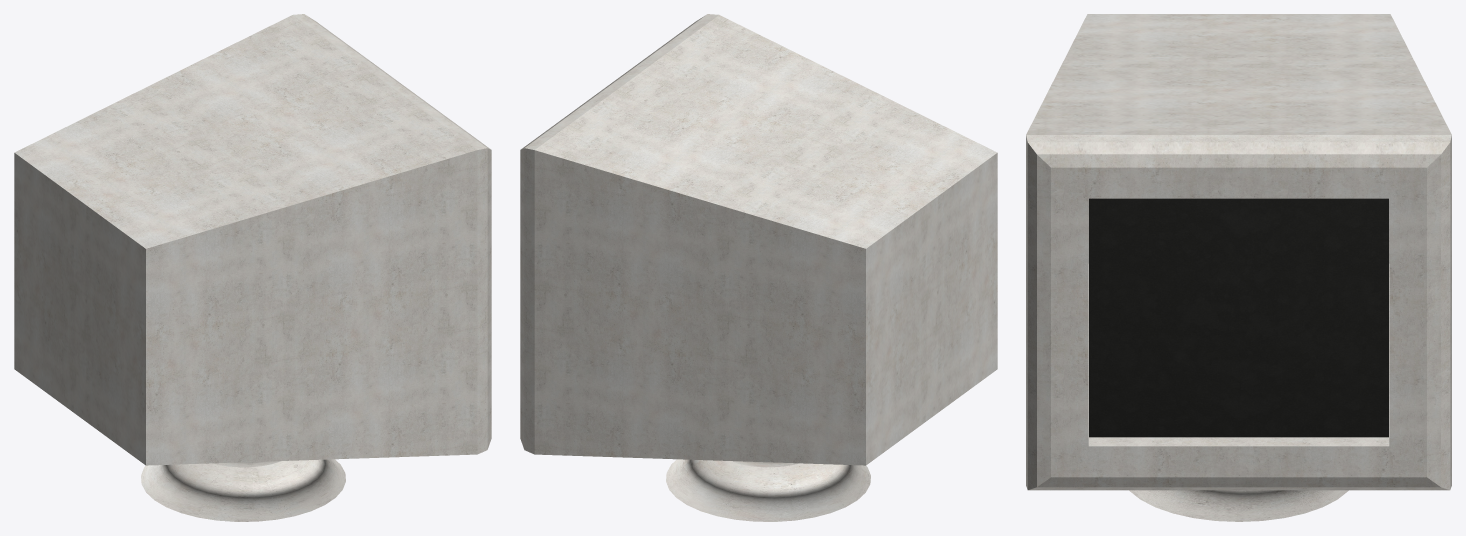
3 renders of one model, left to right at view 1: azimuth 30°, elevation 25°; view 2: azimuth 150°, elevation 25°; view 3: azimuth 270°, elevation 25°, orthographic. The views are drawn at different scales.
Parts seen in each view (by area): view 1: Cube, Cylinder; view 2: Cube, Cylinder; view 3: Cube, Cylinder.
Part boxes in pixels (x1,y1,x2,y2): Cube: (14,14,491,465); Cylinder: (141,459,345,521); Cube: (520,14,997,465); Cylinder: (666,459,870,521); Cube: (1026,14,1451,490); Cylinder: (1129,490,1348,521).
Bounding box in the file's own units: 2 × 2.12 × 1.96.
Materials: 3 (3 with a texture image).
